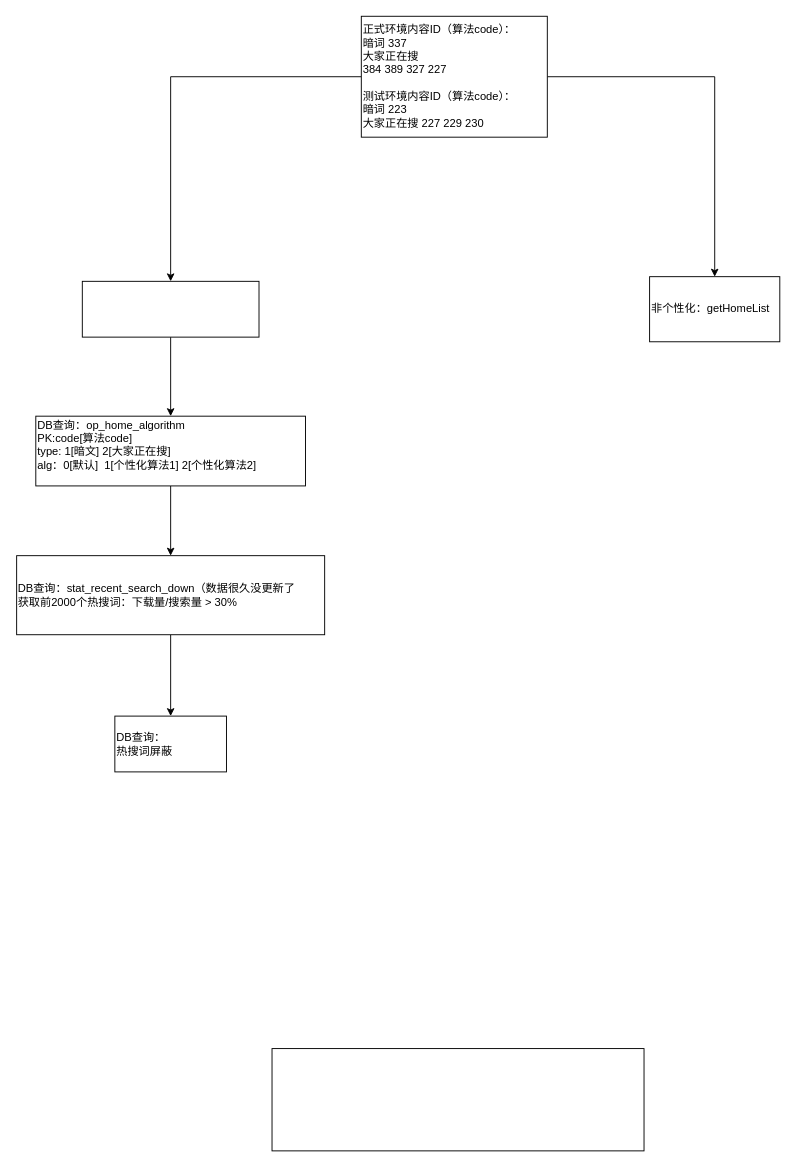
This 796x1167 diagram has some shape labels left out. Each missing label, with the box of its shape:
个性化：getPersonalHomeListV2: (81, 280, 259, 337)
合并规则： 如果单个算法code的个性化词语<2，则追加算法code对应的个性化词语: (271, 1048, 644, 1151)
